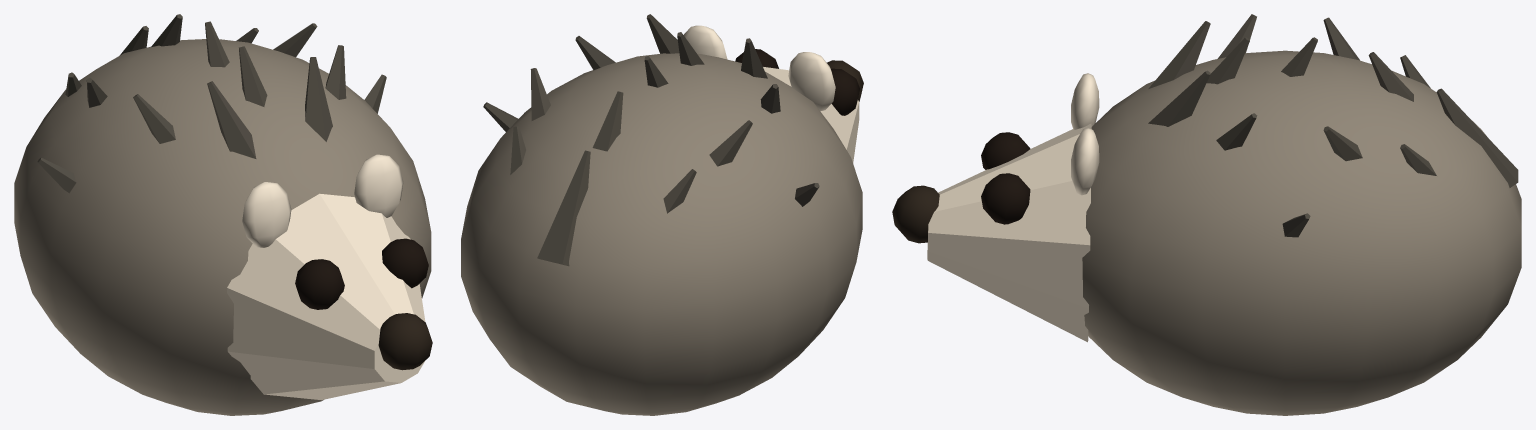
File: h35-landak.glb
The picture shows the model from 3 angles, left to right: view 1: azimuth 30°, elevation 25°; view 2: azimuth 150°, elevation 25°; view 3: azimuth 270°, elevation 25°; orthographic projection. The views are drawn at different scales.
Visible parts, largest first — view 1: Landak Mini, head; view 2: Landak Mini, head; view 3: Landak Mini, head.
Part boxes in pixels (x1=…): Landak Mini: x1=14, y1=14, x2=431, y2=415; head: x1=227, y1=154, x2=432, y2=400; Landak Mini: x1=461, y1=14, x2=862, y2=415; head: x1=684, y1=25, x2=863, y2=163; Landak Mini: x1=1082, y1=14, x2=1521, y2=415; head: x1=892, y1=73, x2=1099, y2=342.
Size of the model in its own units: 0.249 by 0.244 by 0.3892.
